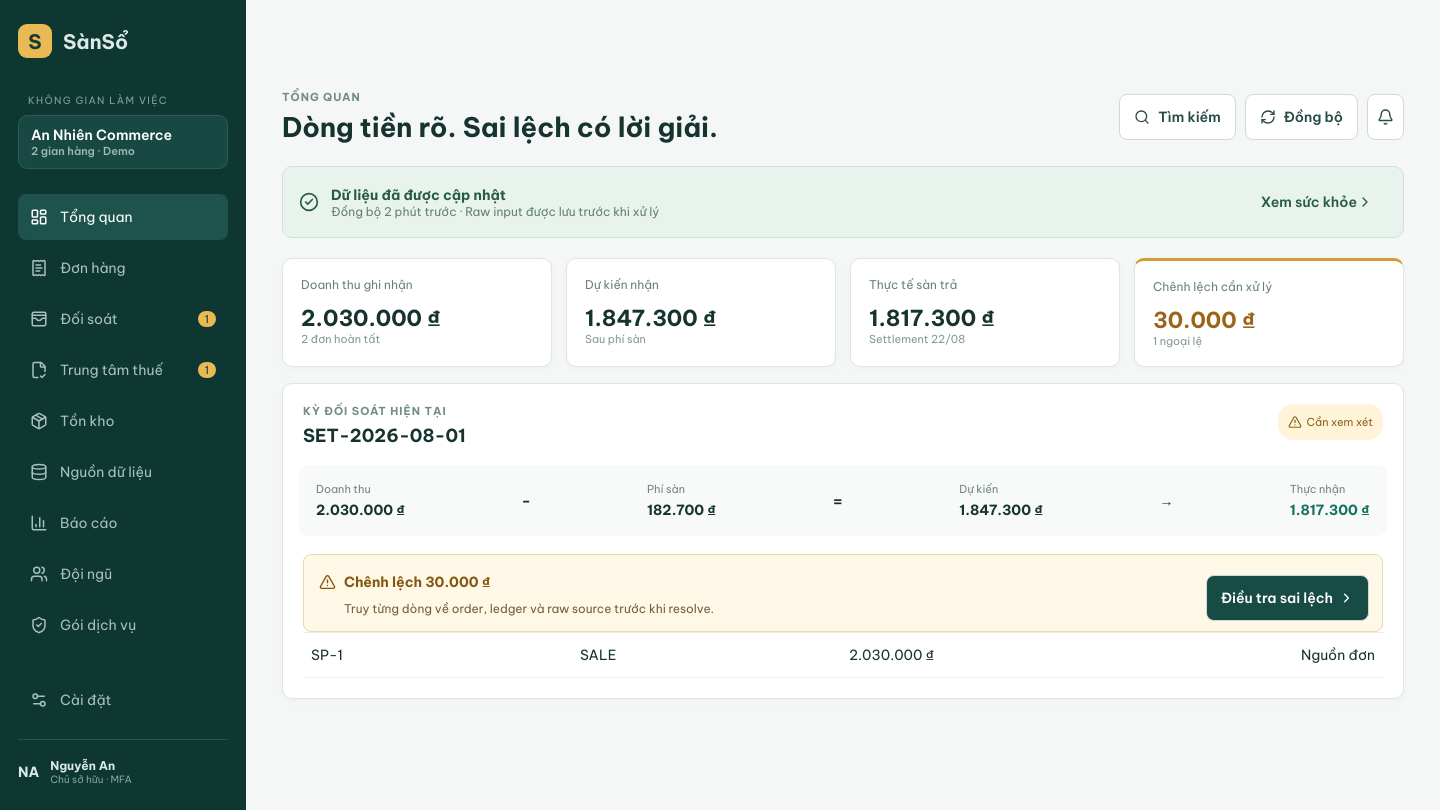
SànSổ V2 workflows › shows inventory quarantine excluded from ATP
Expected: the heading "SET-2026-08-01" is shown, [303,424,466,447]
Click the link "Tồn kho": (72, 421) [30,409,114,433]
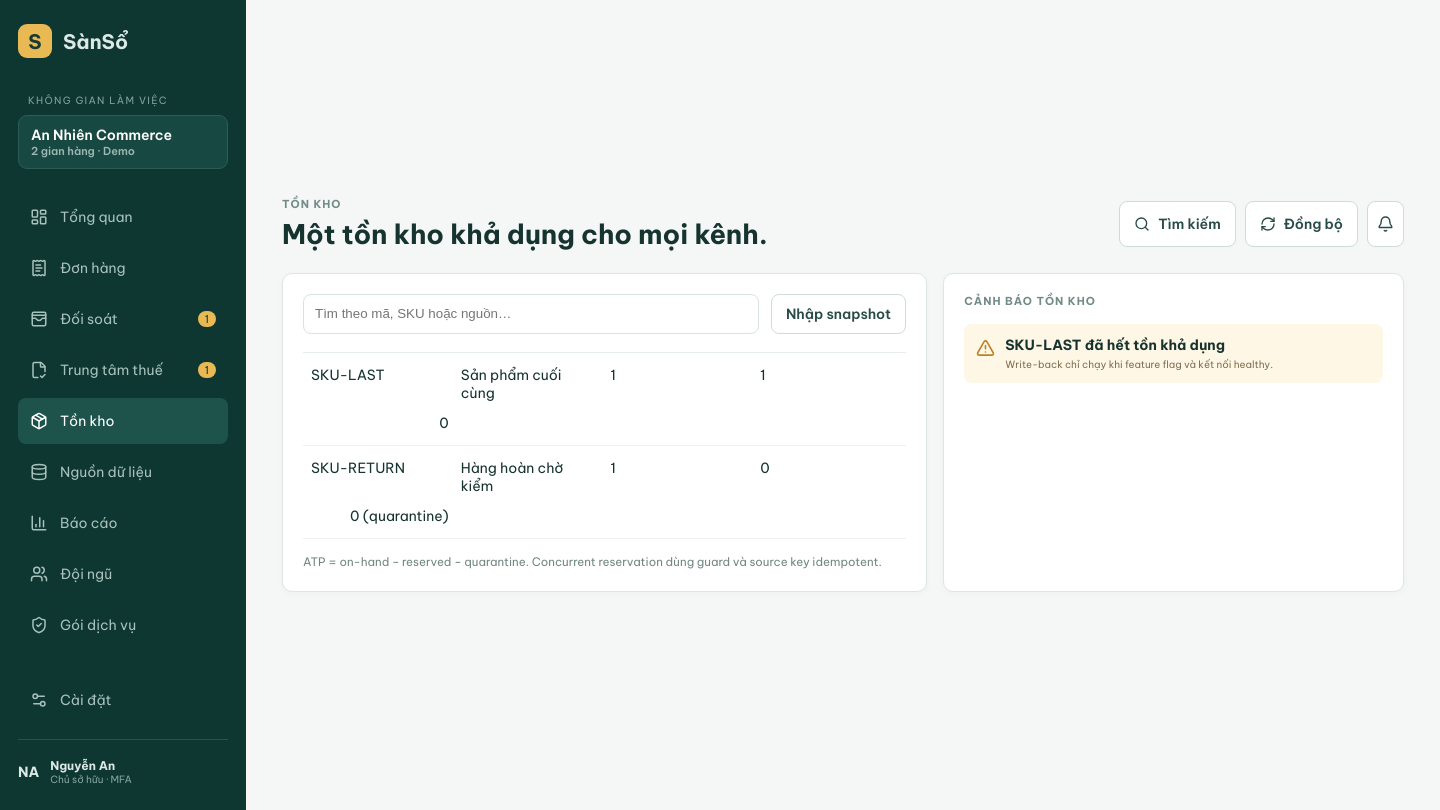
Now the text "Hàng hoàn chờ kiểm" is shown, box [461,459,564,495]
Now the text "0 (quarantine)" is shown, box [350,507,449,525]
Now the text "ATP = on-hand" is shown, box [303,554,882,569]
